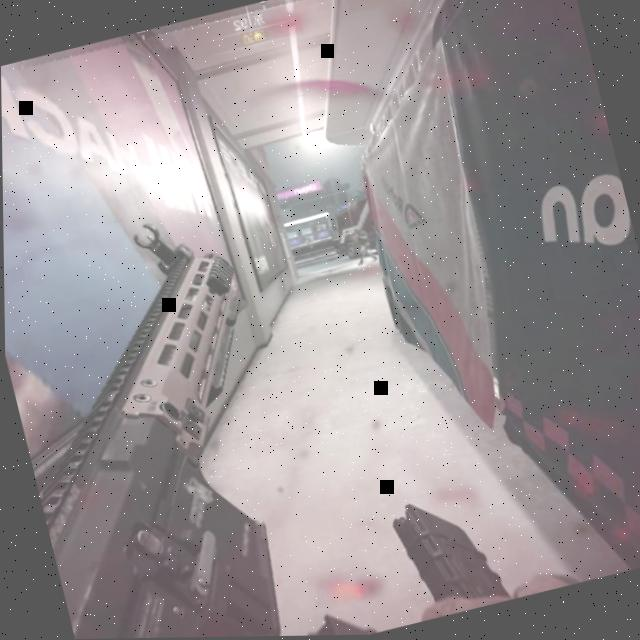MW2_body: (348, 224, 377, 266)
